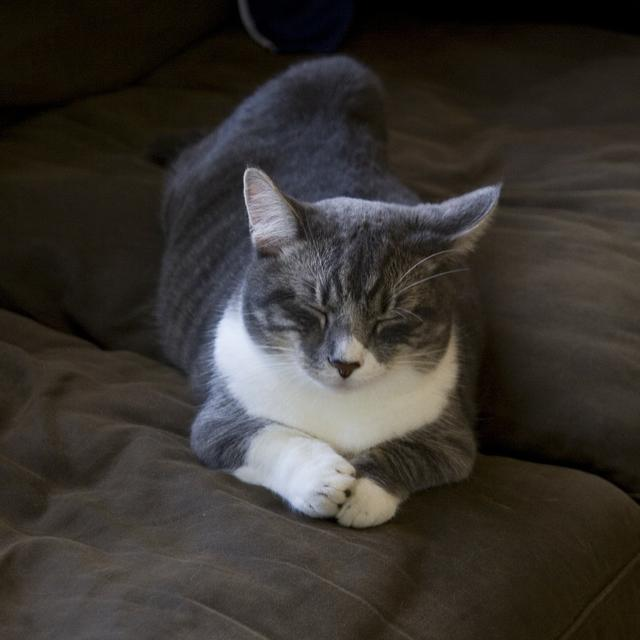animals: (251, 170, 498, 376)
